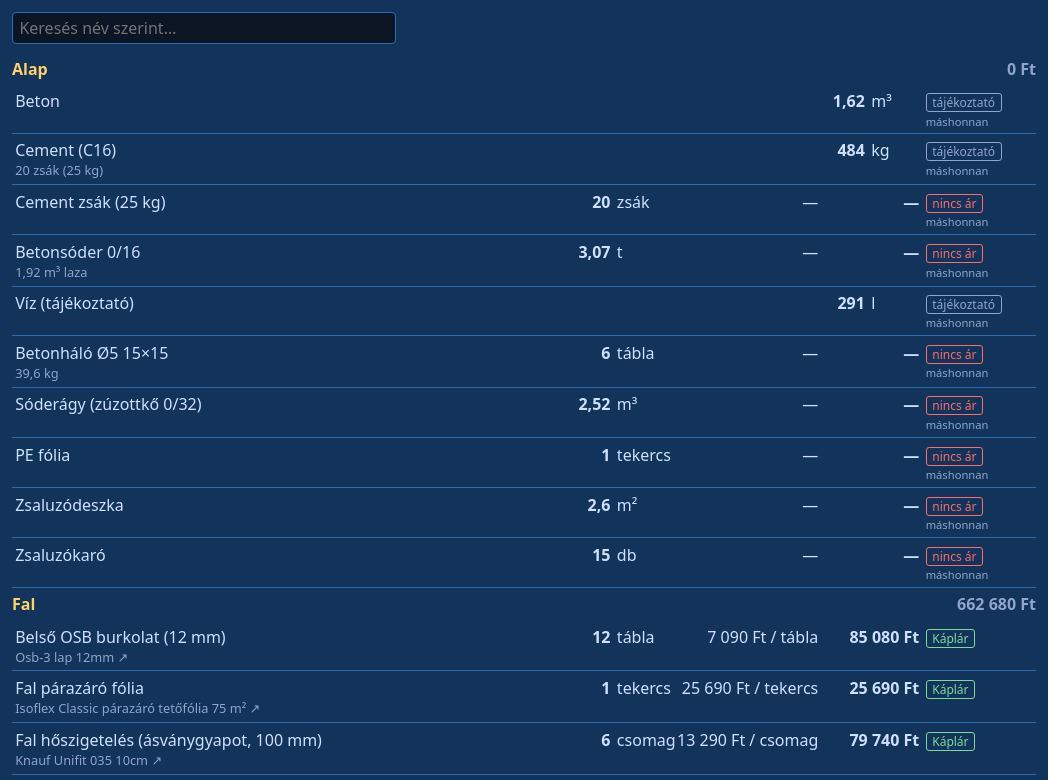
Test: empty state when the search matches nothing
The width and height of the screenshot is (1048, 780).
Type "zzzz" into the search field at (204, 28), box [12, 12, 396, 44]
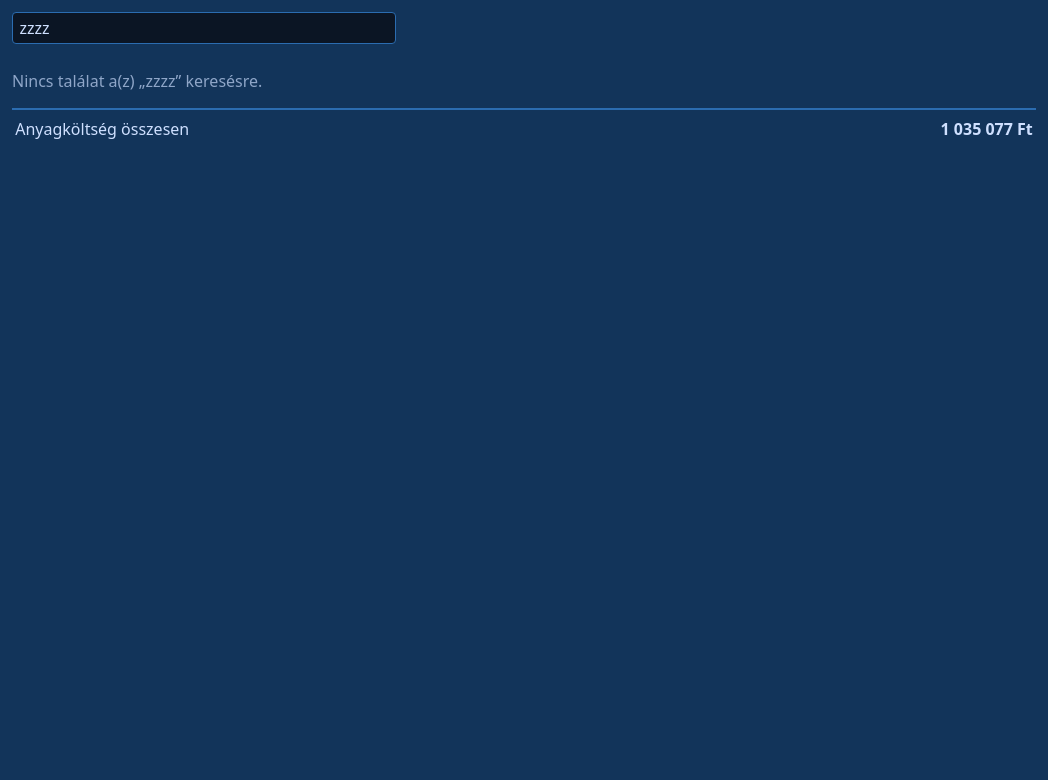
Now the text "Nincs találat a(z) „zzzz” keresésre." is shown, box [12, 70, 262, 92]
Now no elements with class "line" are shown
